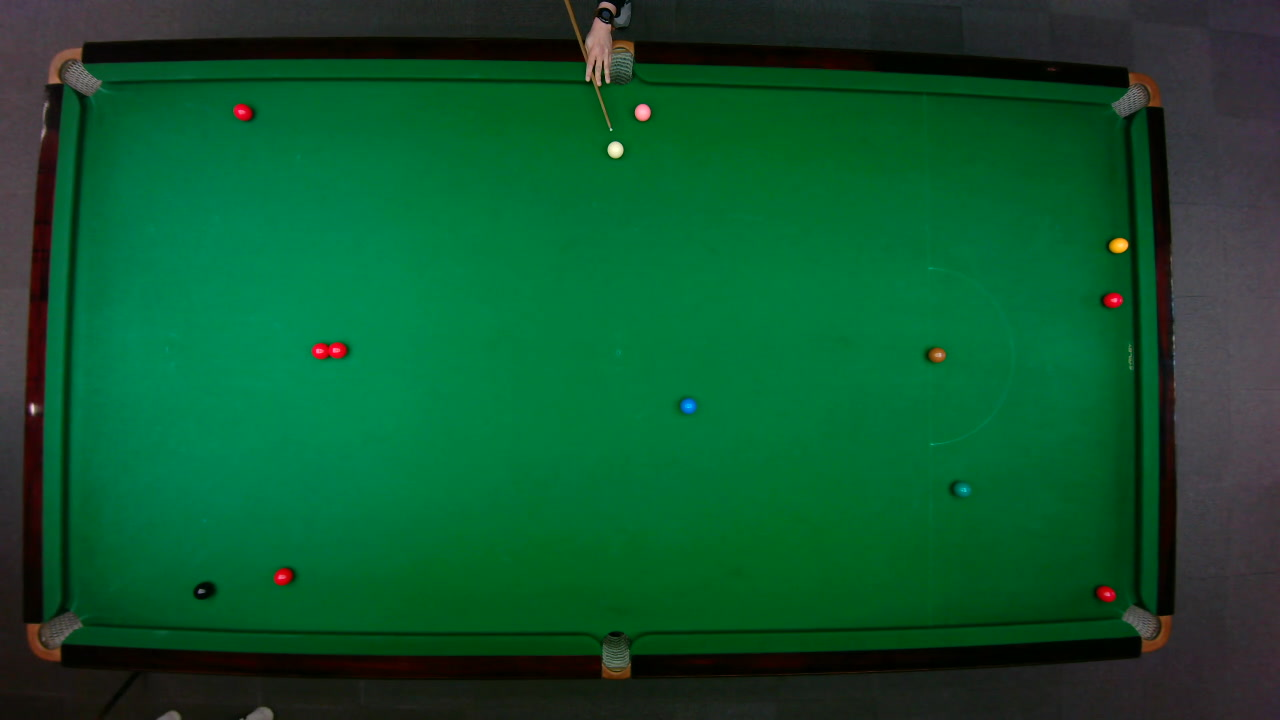bag: (25, 609, 83, 662), (45, 46, 102, 96), (1119, 603, 1172, 652), (1108, 71, 1161, 117), (601, 629, 630, 680), (605, 38, 633, 85)
black: (192, 581, 213, 600)
blue: (678, 396, 697, 414)
brown: (926, 346, 946, 362)
cue: (564, 0, 612, 130)
green: (951, 480, 972, 497)
pink: (632, 102, 651, 121)
red: (272, 566, 294, 586), (325, 340, 347, 359), (1094, 584, 1116, 602), (1101, 291, 1124, 308), (310, 341, 330, 360), (232, 102, 253, 120)
white: (605, 139, 624, 159)
yellow: (1107, 236, 1129, 253)
zone: (927, 266, 1014, 445)
